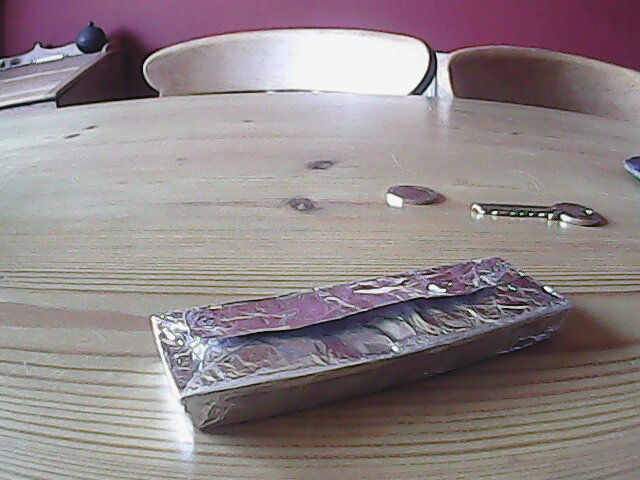Coin: (383, 181, 440, 211)
Foil: (148, 254, 578, 433)
Key: (468, 200, 607, 232)
